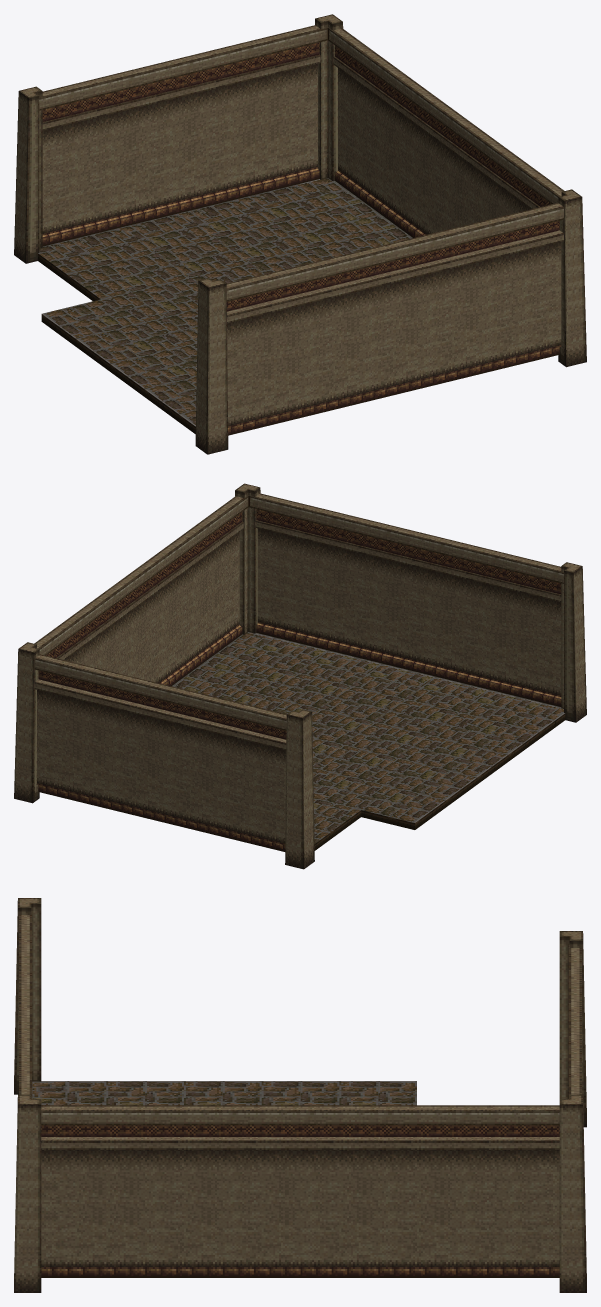
The model's file is EnvBdgMD_Wilderness_C_Indoor_Pub_AL.FBX.
3 renders of one model, top to bottom at view 1: azimuth 30°, elevation 25°; view 2: azimuth 150°, elevation 25°; view 3: azimuth 270°, elevation 25°, orthographic. The views are drawn at different scales.
Visible parts, largest first — view 1: EnvBdgMD_Wilderness_C_Indoor_Pub_AL; view 2: EnvBdgMD_Wilderness_C_Indoor_Pub_AL; view 3: EnvBdgMD_Wilderness_C_Indoor_Pub_AL.
Part boxes in pixels (box(x1,y1,x2,y2)): EnvBdgMD_Wilderness_C_Indoor_Pub_AL: box(14, 14, 586, 454); EnvBdgMD_Wilderness_C_Indoor_Pub_AL: box(14, 483, 586, 869); EnvBdgMD_Wilderness_C_Indoor_Pub_AL: box(14, 898, 586, 1292).
Bounding box in the file's own units: 1278 × 530 × 1475.
Materials: 1 (1 with a texture image).
